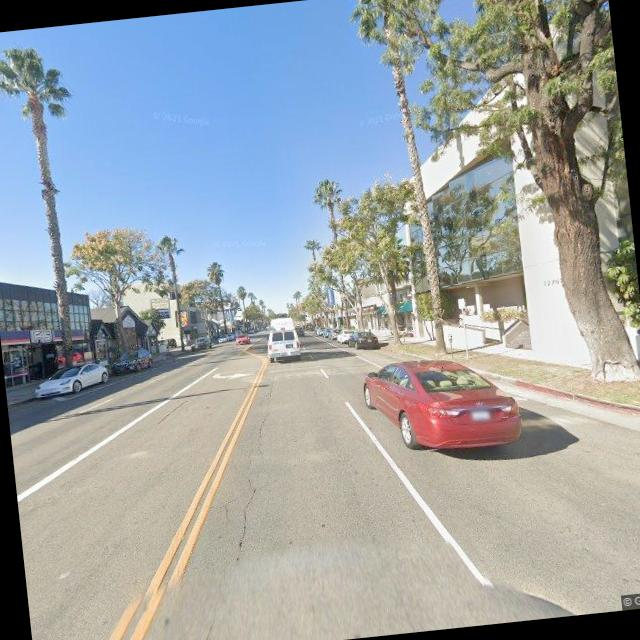pothole: (222, 411, 282, 559), (152, 397, 190, 425)
